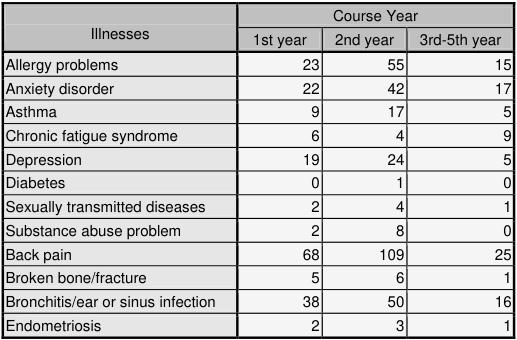table: (4, 3, 510, 334)
table column: (4, 3, 233, 334), (410, 3, 510, 334), (233, 3, 326, 334), (326, 3, 410, 334)
table column header: (4, 3, 510, 50)
table row: (4, 26, 510, 50), (4, 50, 510, 74), (4, 74, 510, 98), (4, 98, 510, 122), (4, 122, 510, 146), (4, 169, 510, 193), (4, 193, 510, 217), (4, 240, 510, 264), (4, 264, 510, 288), (4, 3, 510, 26), (4, 146, 510, 169), (4, 217, 510, 240), (4, 288, 510, 311), (4, 311, 510, 334)
table spanning cell: (4, 3, 233, 50), (233, 3, 510, 26)
